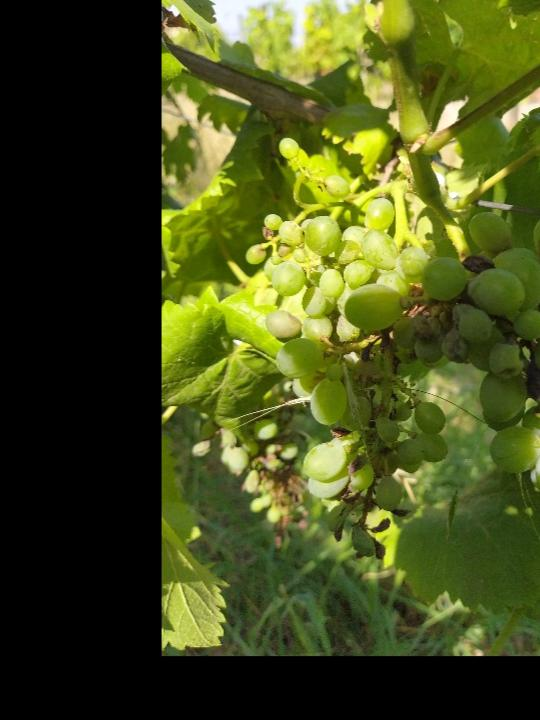grape: (264, 185, 540, 579)
